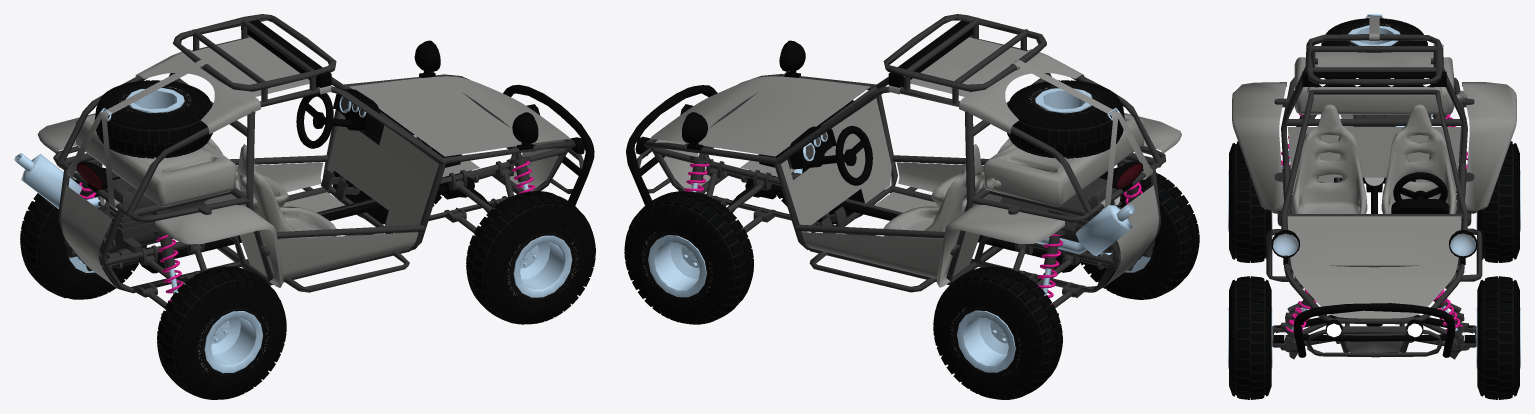
File: viper_baja.glb
The picture shows the model from 3 angles, left to right: view 1: azimuth 30°, elevation 25°; view 2: azimuth 150°, elevation 25°; view 3: azimuth 270°, elevation 25°; orthographic projection. The views are drawn at different scales.
Parts seen in each view (by area): view 1: Plane.006_diffuse_0, Plane.007_hull_tubes_0, Cube.002_rubber_0, Cube.006_rubber_0, Cube.003_rubber_0, Cube.005_rubber_0, Cylinder.146_Black_plastic_0, lightbar_housing, BezierCircle.009_chroma_0, Cylinder.009_chroma_0, Cylinder.122_chroma_0, Cylinder.002_transmission_parts_0 (+3 smaller); view 2: Plane.006_diffuse_0, Plane.007_hull_tubes_0, Cube.005_rubber_0, Cube.004_rubber_0, Cube.006_rubber_0, Cube.003_rubber_0, Cylinder.146_Black_plastic_0, BezierCircle.009_chroma_0, lightbar_housing, Cylinder.123_chroma_0, Cylinder.136_chroma_0, Cylinder.002_transmission_parts_0 (+2 smaller); view 3: Plane.006_diffuse_0, Plane.007_hull_tubes_0, Cube.004_rubber_0, Cube.002_rubber_0, lightbar_housing, Cube.005_rubber_0, Cube.006_rubber_0, BezierCircle.009_chroma_0, Cylinder.146_Black_plastic_0, Cube.003_rubber_0, Sphere_white_glass_0, Cylinder.002_transmission_parts_0 (+4 smaller).
Part boxes in pixels (x1,y1,x2,y2): Plane.006_diffuse_0: (37,35,570,287); Plane.007_hull_tubes_0: (53,14,583,314); Cube.002_rubber_0: (466,191,595,324); Cube.006_rubber_0: (157,266,286,399); Cube.003_rubber_0: (95,80,212,158); Cube.005_rubber_0: (20,167,146,299); Cylinder.146_Black_plastic_0: (77,40,538,192); lightbar_housing: (241,20,594,205); BezierCircle.009_chroma_0: (14,88,528,294); Cylinder.009_chroma_0: (513,235,572,297); Cylinder.122_chroma_0: (204,311,262,373); Cylinder.002_transmission_parts_0: (139,131,493,288); Plane.006_diffuse_0: (650,35,1181,287); Plane.007_hull_tubes_0: (637,14,1165,315); Cube.005_rubber_0: (933,266,1062,399); Cube.004_rubber_0: (624,191,753,324); Cube.006_rubber_0: (1080,167,1199,299); Cube.003_rubber_0: (1007,80,1124,158); Cylinder.146_Black_plastic_0: (682,40,1142,191); BezierCircle.009_chroma_0: (691,88,1135,295); lightbar_housing: (626,20,972,205); Cylinder.123_chroma_0: (957,310,1015,372); Cylinder.136_chroma_0: (648,235,706,297); Cylinder.002_transmission_parts_0: (727,166,1080,282); Plane.006_diffuse_0: (1232,16,1516,352); Plane.007_hull_tubes_0: (1266,34,1482,359); Cube.004_rubber_0: (1477,276,1519,399); Cube.002_rubber_0: (1229,276,1271,399); lightbar_housing: (1293,71,1455,357); Cube.005_rubber_0: (1477,141,1519,262); Cube.006_rubber_0: (1229,141,1271,262); BezierCircle.009_chroma_0: (1273,14,1475,331); Cylinder.146_Black_plastic_0: (1271,187,1477,264); Cube.003_rubber_0: (1321,18,1427,52); Sphere_white_glass_0: (1273,234,1475,255); Cylinder.002_transmission_parts_0: (1275,177,1473,333).
Bounding box in the file's own units: 3.69 × 1.88 × 2.03.
12 materials, 1 textured.
